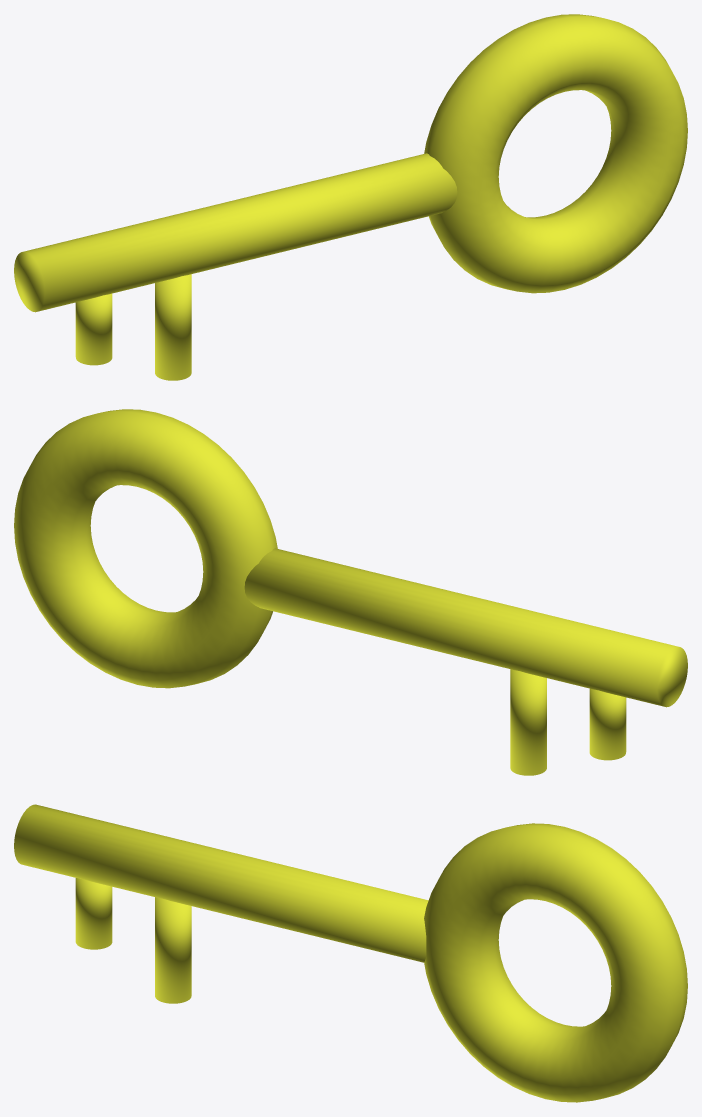
The model's file is Key.fbx.
3 views of the same model, one above another, from view 1: azimuth 30°, elevation 25°; view 2: azimuth 150°, elevation 25°; view 3: azimuth 330°, elevation 25° (orthographic).
Visible parts, largest first — view 1: Cylinder.003; view 2: Cylinder.003; view 3: Cylinder.003.
Boxes of the visible parts, x1,y1,x2,y2 form: Cylinder.003: [14, 14, 687, 380]; Cylinder.003: [14, 409, 687, 775]; Cylinder.003: [14, 804, 687, 1102].
Size of the model in its own units: 511 by 200 by 52.
